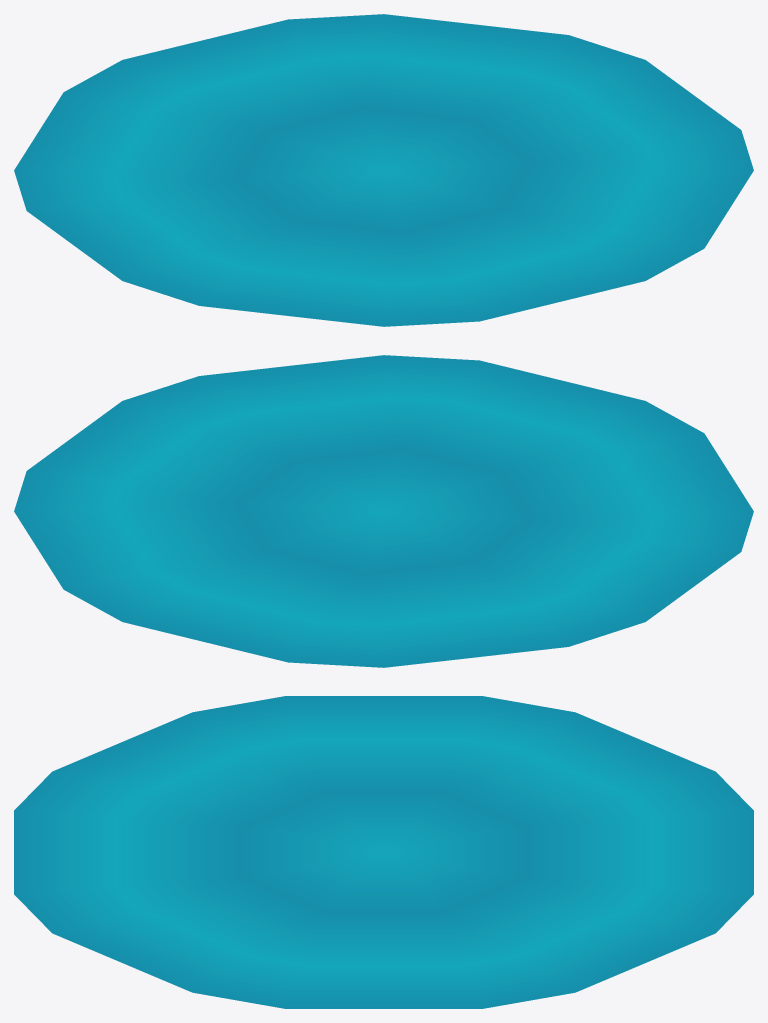
The model's file is Cleric_Font_Water.obj.
The picture shows the model from 3 angles, top to bottom: view 1: azimuth 30°, elevation 25°; view 2: azimuth 150°, elevation 25°; view 3: azimuth 270°, elevation 25°; orthographic projection. The views are drawn at different scales.
Parts seen in each view (by area): view 1: Cleric_Font_Water; view 2: Cleric_Font_Water; view 3: Cleric_Font_Water.
Boxes of the visible parts, bbox=[...] form: Cleric_Font_Water: bbox=[14, 14, 753, 326]; Cleric_Font_Water: bbox=[14, 355, 753, 667]; Cleric_Font_Water: bbox=[14, 696, 753, 1008].
Bounding box in the file's own units: 1.01 × 0 × 1.01.
1 material, 1 textured.
